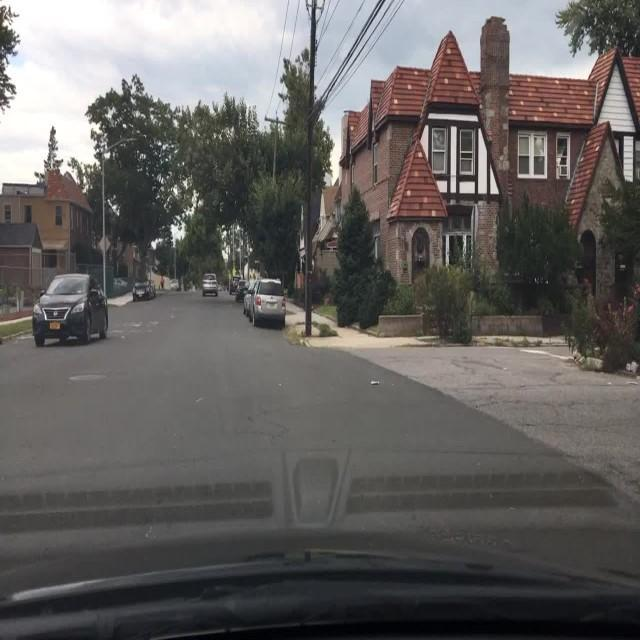normal: (31, 272, 108, 345), (242, 277, 287, 327), (202, 273, 221, 296), (133, 281, 155, 300)
